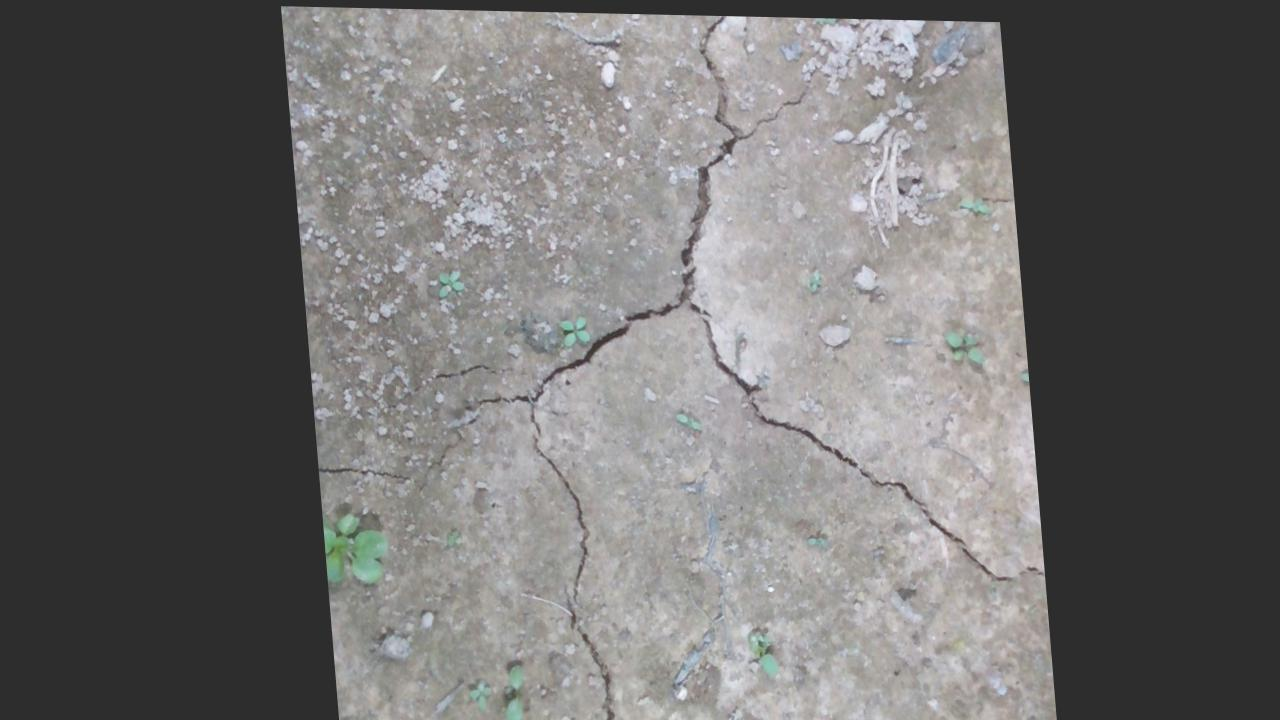weed: (727, 616, 777, 689), (941, 315, 991, 366), (434, 256, 471, 309), (656, 393, 704, 430), (491, 659, 517, 719), (555, 301, 589, 341), (458, 674, 481, 711), (815, 14, 839, 25)
